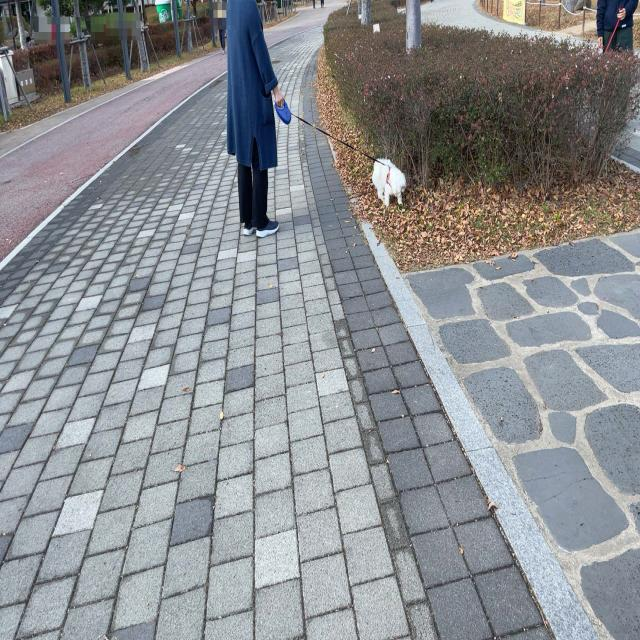Leashed_Dog: (252, 99, 406, 208)
